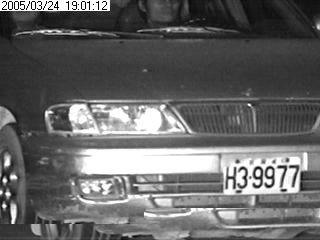plate: (224, 155, 300, 195)
